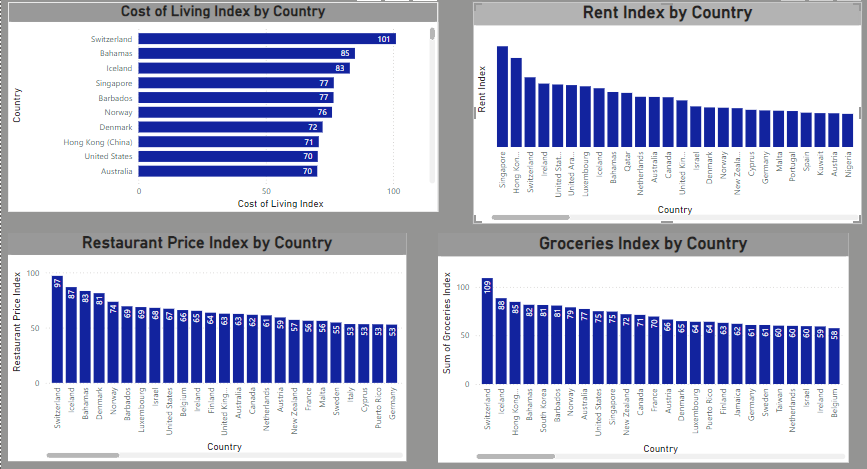

The page's visual inventory and layout, read from the dashboard file:
{"tool":"powerbi","page":{"name":"Page 3","canvas":[1280,720],"ordinal":1},"visuals":[{"type":"clusteredColumnChart","title":"Restaurant Price Index by Country","fields":{"Y":["Sum(Cost of living in kenya.Restaurant Price Index)"],"Category":["Cost of living in kenya.Country"]},"box":[10.1,372.9,582.9,334.3],"z":0},{"type":"clusteredColumnChart","title":" Rent Index by Country","fields":{"Y":["Sum(Cost of living in kenya.Rent Index)"],"Category":["Cost of living in kenya.Country"]},"box":[690.4,35.3,569.4,324.2],"z":1000},{"type":"clusteredColumnChart","title":"Groceries Index by Country","fields":{"Y":["Sum(Cost of living in kenya.Groceries Index)"],"Category":["Cost of living in kenya.Country"]},"box":[640,372.9,601,336],"z":2000},{"type":"barChart","title":" Cost of Living Index by Country","fields":{"Category":["Cost of living in kenya.Country"],"Y":["Sum(Cost of living in kenya.Cost of Living Index)"]},"box":[10.1,35.3,629.9,307.4],"z":3000}]}

Visuals, with their boxes on the page's 1280x720 design canvas (x1, y1, x2, y2). These are canvas units, not pixel positions in the 867x469 screenshot, which may show the page scaled, cropped or inside an application window:
"Restaurant Price Index by Country" clusteredColumnChart: bbox(10, 373, 593, 707)
" Rent Index by Country" clusteredColumnChart: bbox(690, 35, 1260, 360)
"Groceries Index by Country" clusteredColumnChart: bbox(640, 373, 1241, 709)
" Cost of Living Index by Country" barChart: bbox(10, 35, 640, 343)
